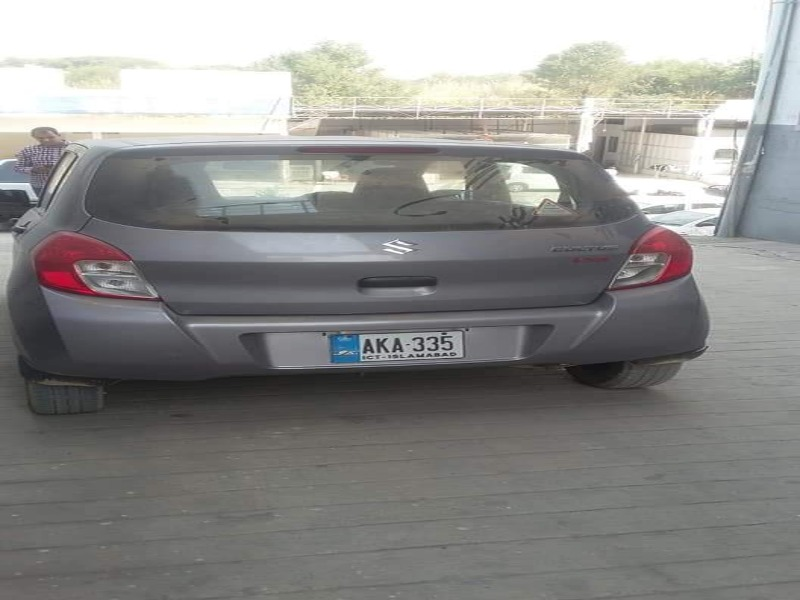License Plate: (328, 326, 471, 372)
